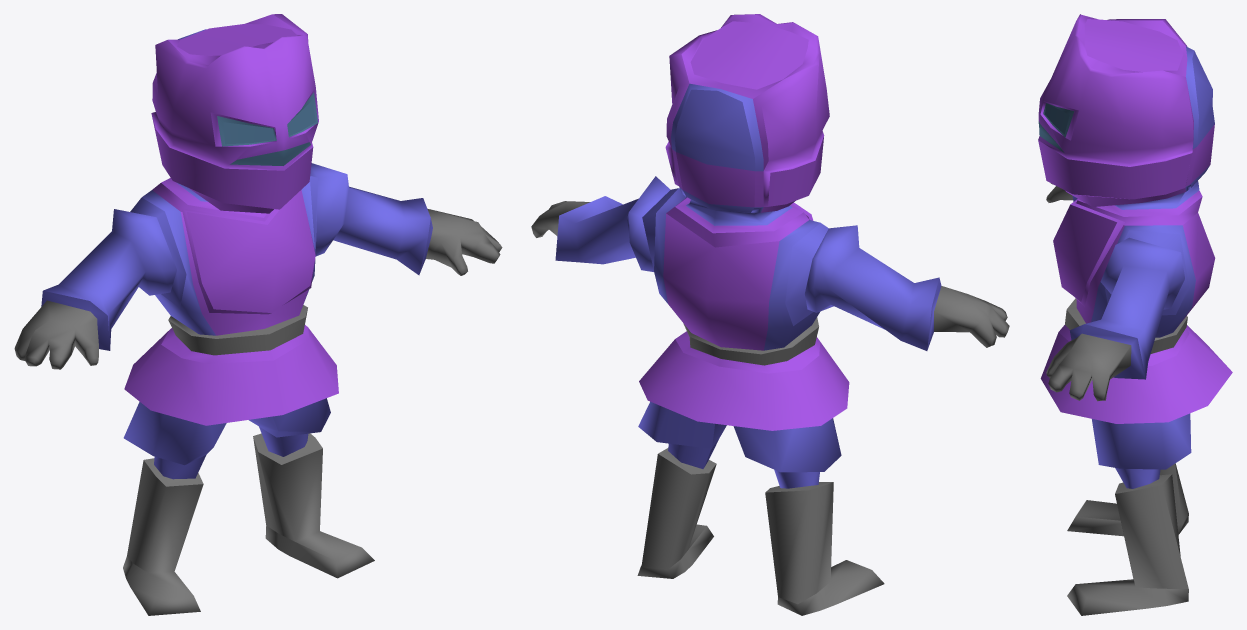
The model's file is knight2.fbx.
3 renders of one model, left to right at view 1: azimuth 30°, elevation 25°; view 2: azimuth 150°, elevation 25°; view 3: azimuth 270°, elevation 25°, orthographic. The views are drawn at different scales.
Visible parts, largest first — view 1: Knight.001; view 2: Knight.001; view 3: Knight.001.
Boxes of the visible parts, left/top/right/bottom form: Knight.001: left=14, top=14, right=502, bottom=615; Knight.001: left=531, top=14, right=1009, bottom=615; Knight.001: left=1038, top=14, right=1232, bottom=615.
Bounding box in the file's own units: 536 × 592 × 196.
